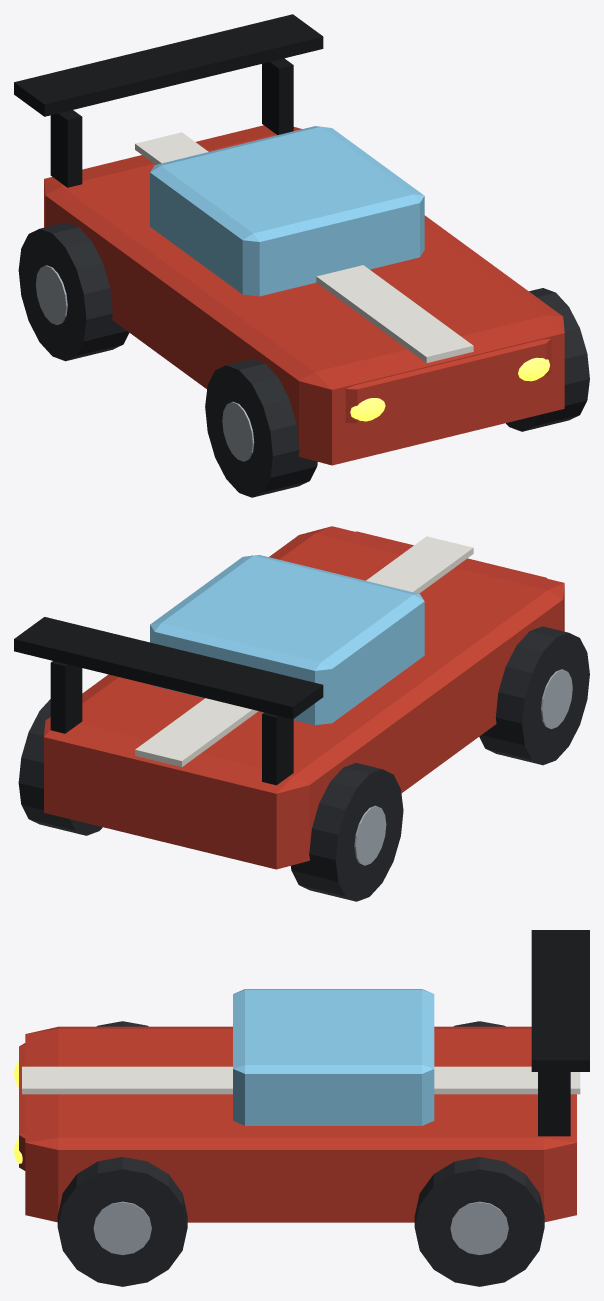
File: race-car-lod0.glb
3 views of the same model, one above another, from view 1: azimuth 30°, elevation 25°; view 2: azimuth 150°, elevation 25°; view 3: azimuth 270°, elevation 25° (orthographic). The views are drawn at different scales.
Parts seen in each view (by area): view 1: race-car; view 2: race-car; view 3: race-car.
Boxes of the visible parts, box(x1,y1,x2,y2) form: race-car: box(14, 14, 589, 497); race-car: box(14, 526, 589, 901); race-car: box(14, 930, 589, 1286).
Size of the model in its own units: 1.09 by 0.74 by 1.78.
